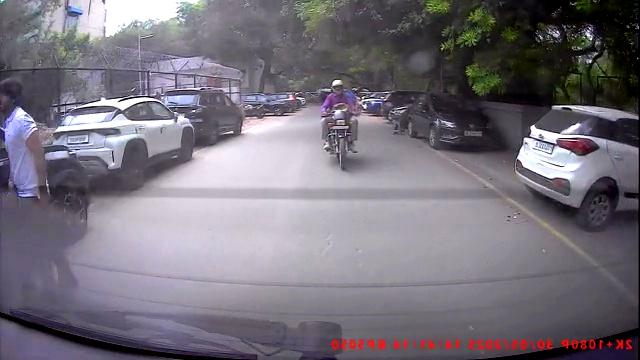motorcycle_with_helmet: (321, 77, 358, 173)
